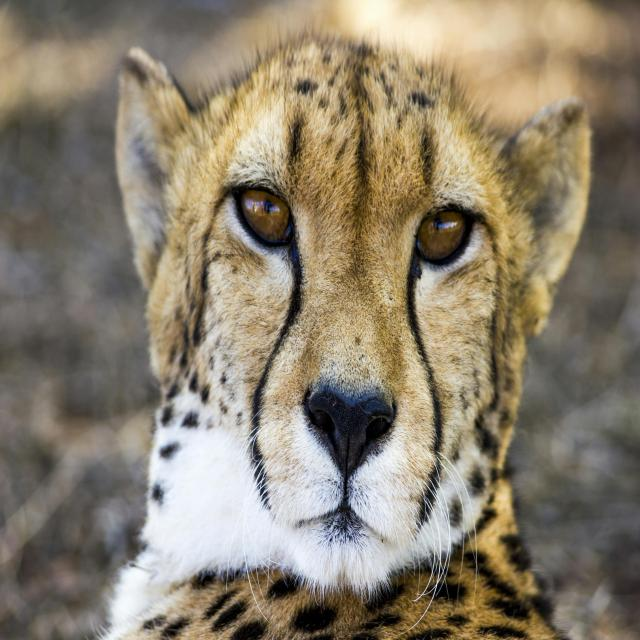Cheetah: (100, 32, 600, 640)
